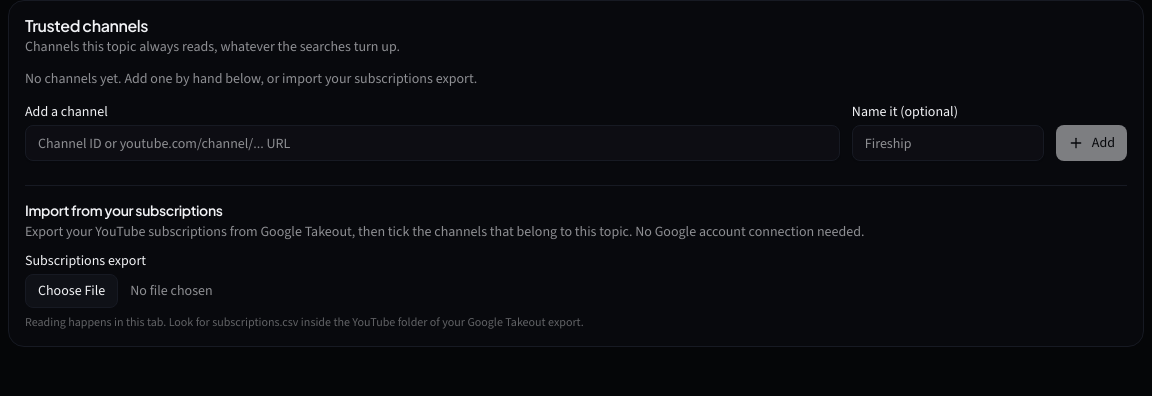
it: TopicChannelsCard when the request itself fails › frees the Add control and says so rather than spinning forever
Type "UC0123456789abcdefghijkl" into the field labelled "Add a channel" at (432,143), box top-left (25, 125), bottom-right (840, 161)
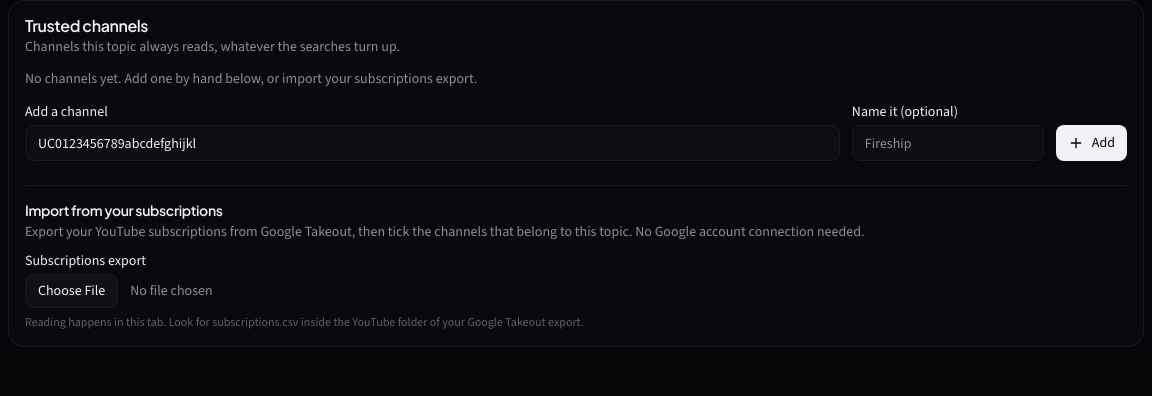
Click the button "Add" at (1091,143), box top-left (1056, 125), bottom-right (1127, 161)
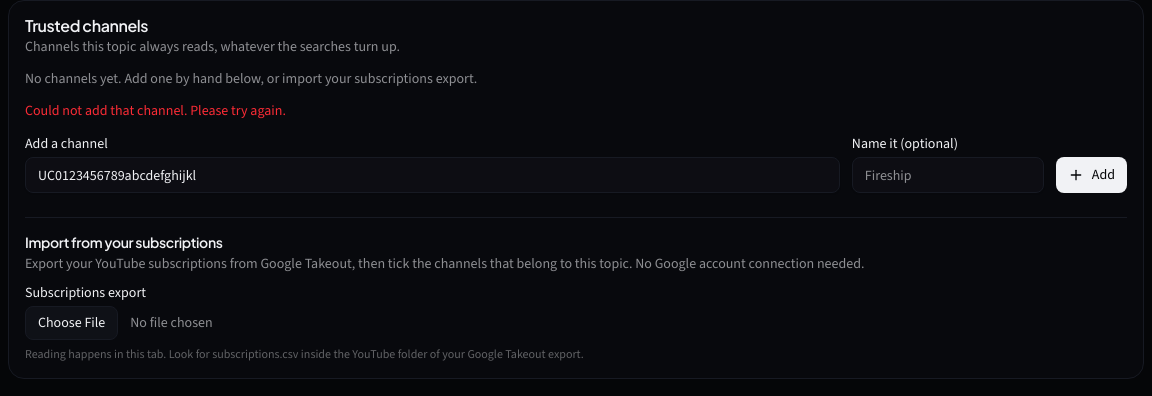
Result: the button "Add" is enabled at top-left (1056, 157), bottom-right (1127, 193)
Result: the message shows "Could not add that channel" at top-left (25, 101), bottom-right (286, 120)
